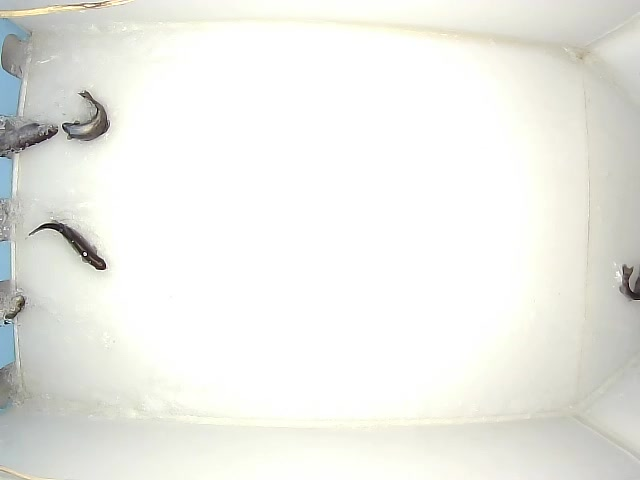fish: (25, 218, 109, 273), (61, 89, 111, 145)
